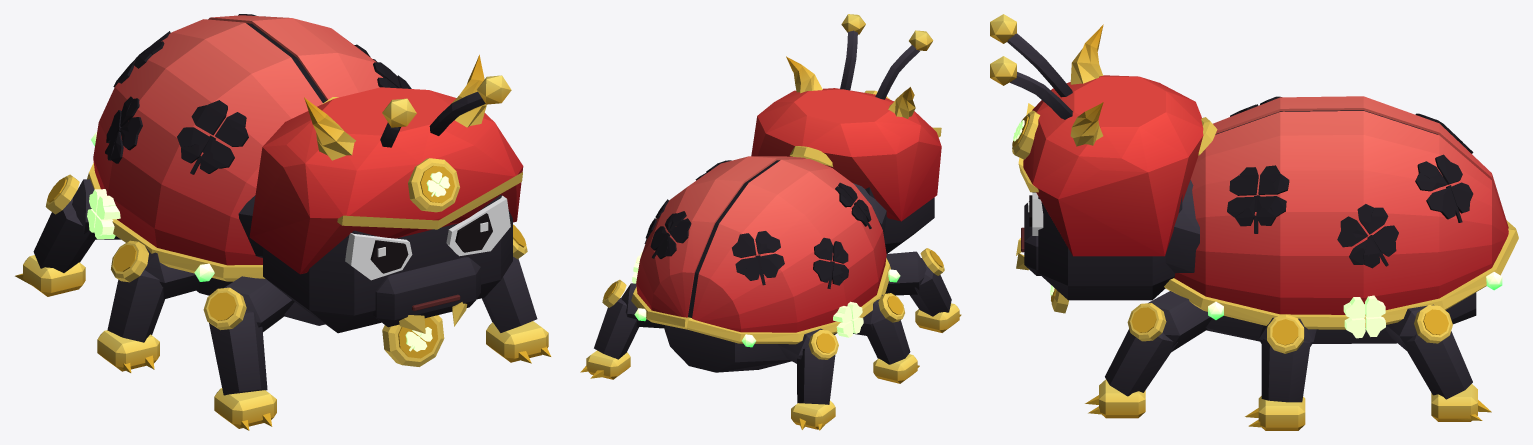
The model's file is LuckyLadybug.glb.
3 views of the same model, side by side, from view 1: azimuth 30°, elevation 25°; view 2: azimuth 150°, elevation 25°; view 3: azimuth 270°, elevation 25° (orthographic). The views are drawn at different scales.
Visible parts, largest first — view 1: LuckyLadybug; view 2: LuckyLadybug; view 3: LuckyLadybug.
Part boxes in pixels (x1=…): LuckyLadybug: x1=15, y1=14, x2=551, y2=430; LuckyLadybug: x1=580, y1=14, x2=961, y2=430; LuckyLadybug: x1=990, y1=14, x2=1518, y2=430.
Size of the model in its own units: 0.908 by 0.7989 by 1.22.
1 material, 1 textured.
